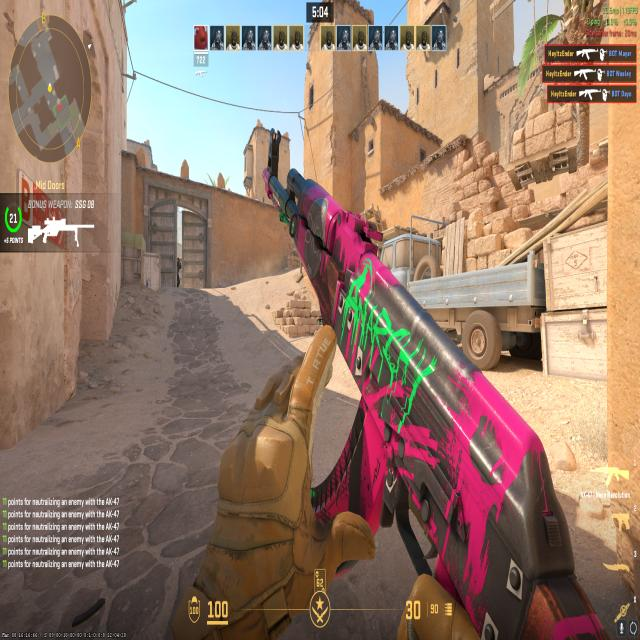ct: (174, 252, 182, 288)
